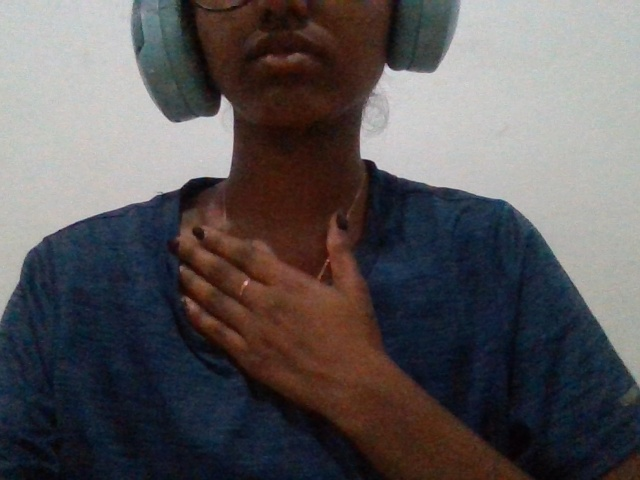Please: (146, 195, 438, 454)
